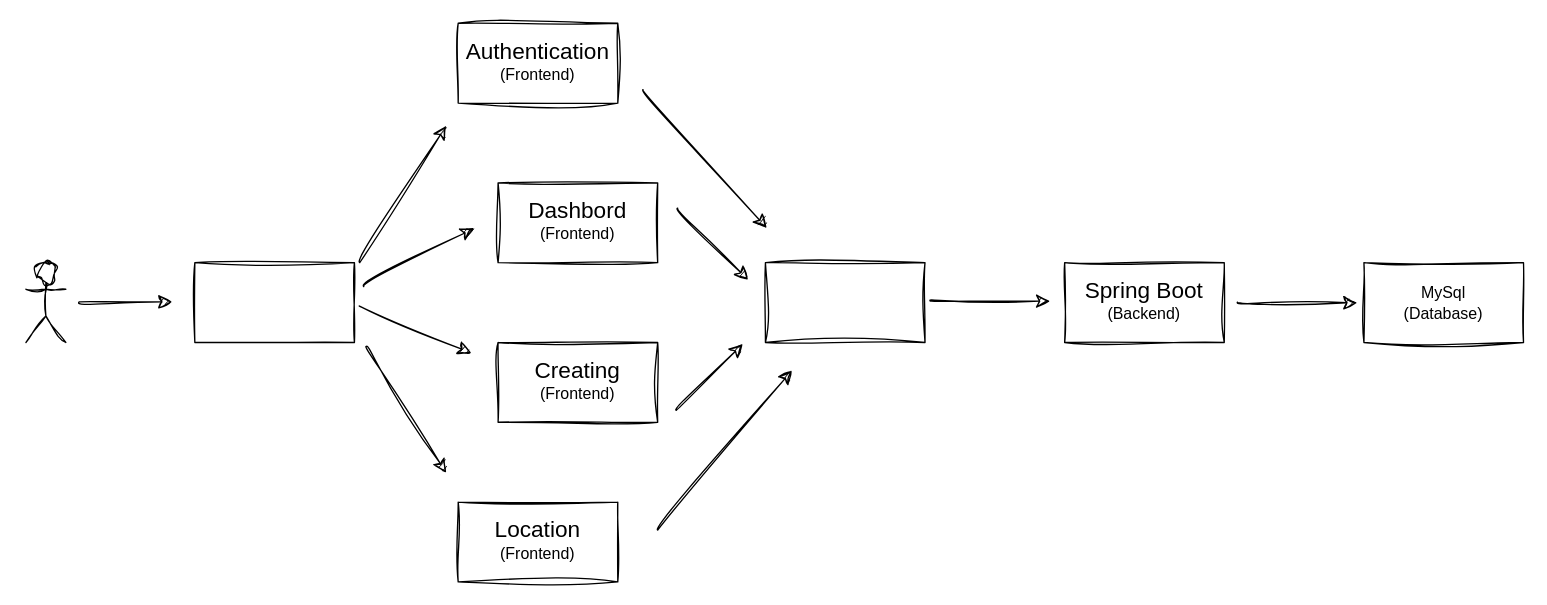
Image size: 1547x605. Some labels were removed from this diagram. Here are the shapes that lost their labels. From the top down, the box of each, then its label:
(25, 261, 66, 342): Actor
(194, 261, 354, 342): MainApp (Frontend)
(764, 261, 925, 342): CoreApp (Frontend)
